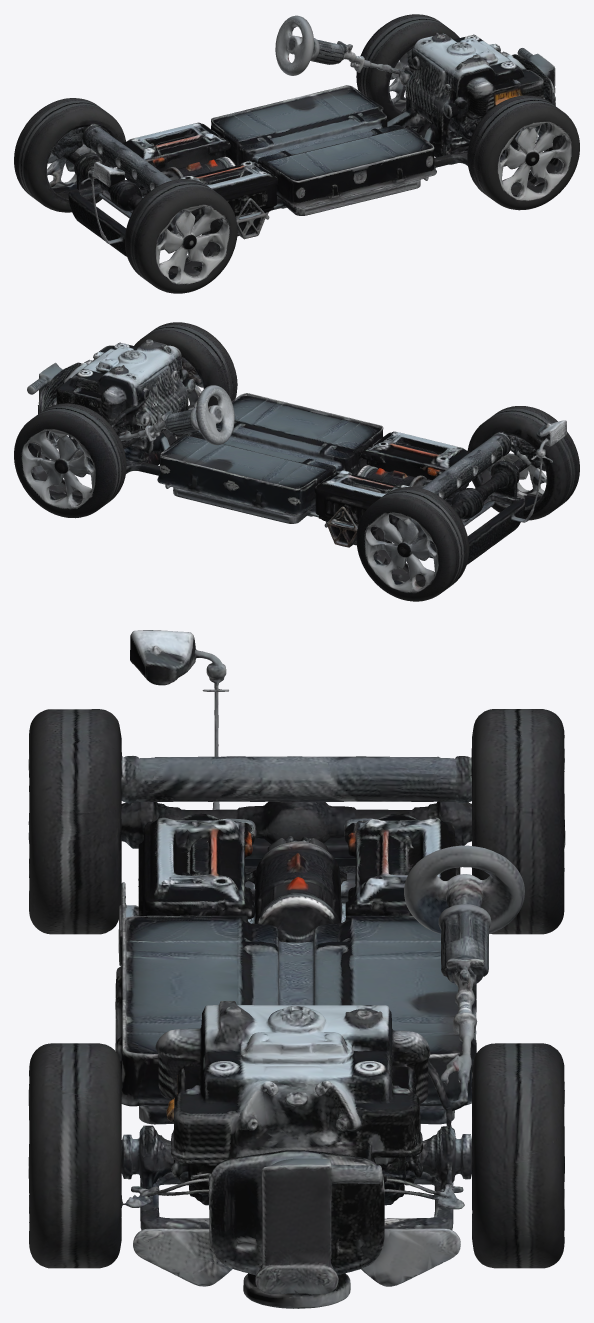
File: sasis-ev-hq.glb
The picture shows the model from 3 angles, top to bottom: view 1: azimuth 30°, elevation 25°; view 2: azimuth 150°, elevation 25°; view 3: azimuth 270°, elevation 25°; orthographic projection. The views are drawn at different scales.
Size of the model in its own units: 1.9 by 0.5387 by 0.9046.
Materials: 1 (1 with a texture image).
